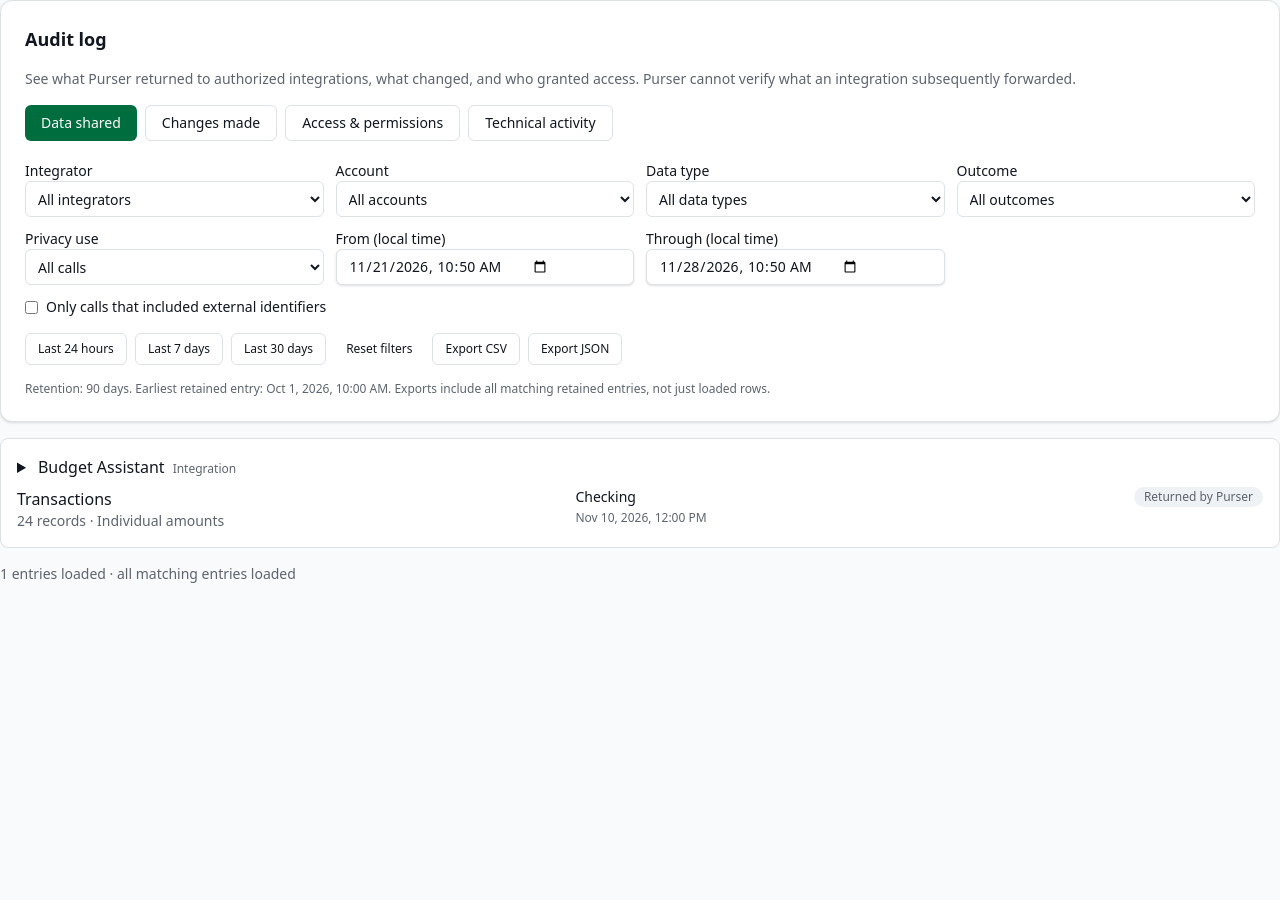
Test: Audit Log › defaults to sharing and explains actual contents and withheld fields
Expected: the text "24 records · Individual amounts" is shown, [17,511,224,530]
Click the text "Budget Assistant".
click(101, 467)  # box [38,456,165,478]
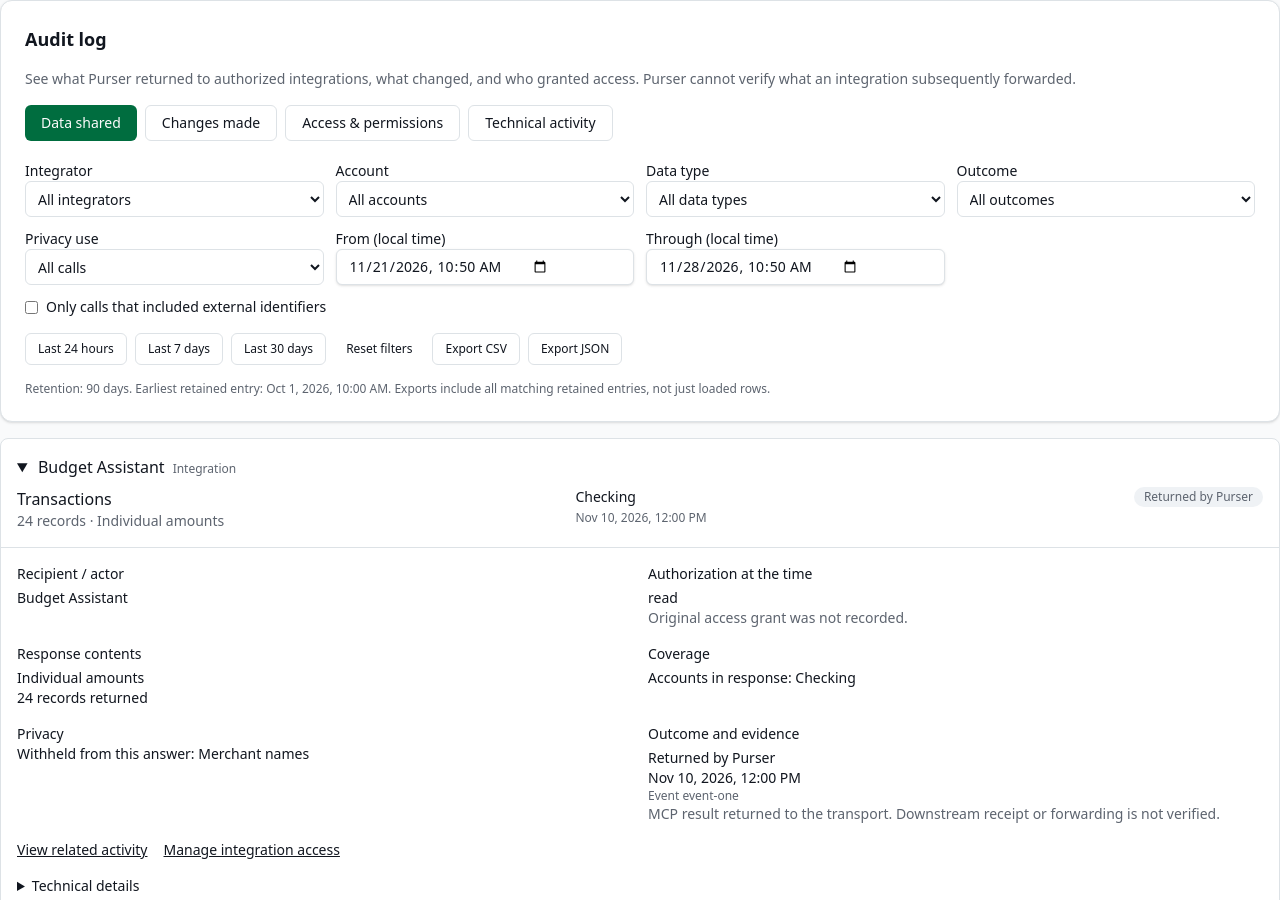
Expected: the text "Withheld from this answer: Merchant names" is shown, [17,744,309,763]
Expected: the text "Original access grant was not recorded." is shown, [648,608,908,627]
Expected: the text "Downstream receipt or forwarding is not verified" is shown, [888,804,1220,823]
